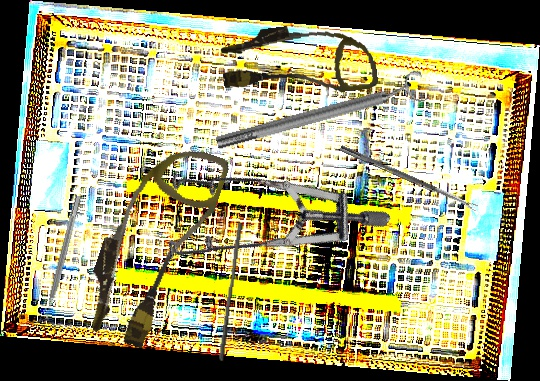Cannula: (74, 130, 232, 357), (218, 15, 379, 107)
Fixation Ring: (212, 68, 429, 159), (36, 193, 89, 328)
Pusher: (218, 220, 244, 364)
Speculum: (133, 102, 393, 349)
Surgical Spoon: (339, 145, 478, 212)
